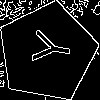Y: (22, 27, 73, 68)
